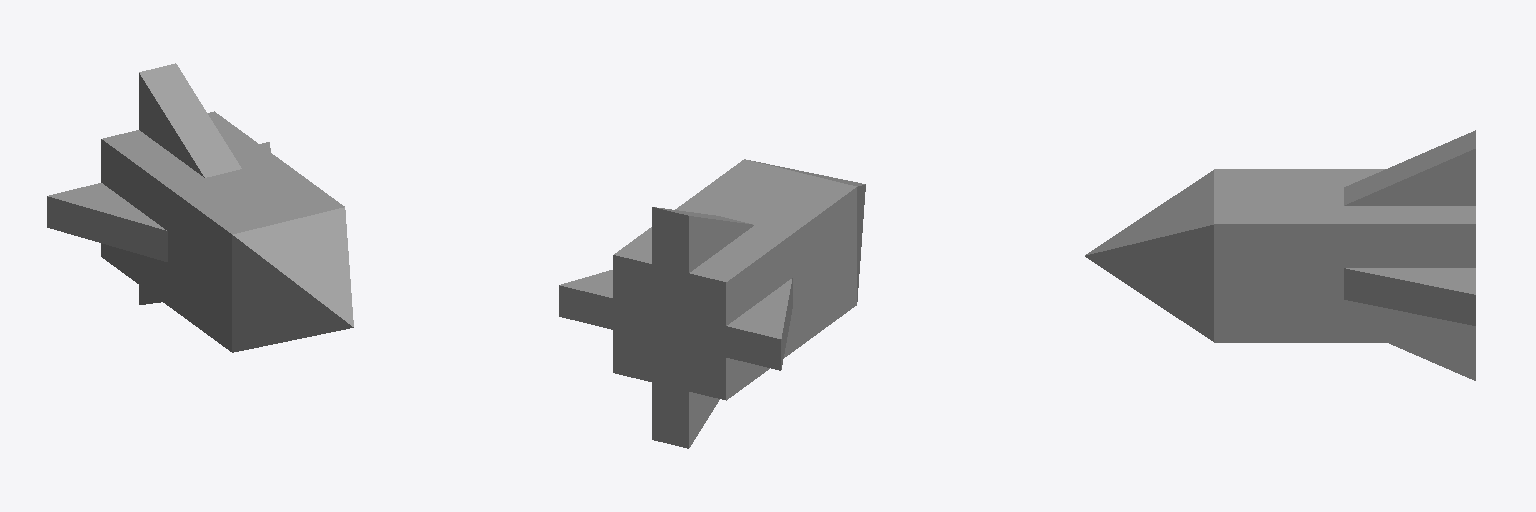
The model's file is sideways_rocket.obj.
3 renders of one model, left to right at view 1: azimuth 30°, elevation 25°; view 2: azimuth 150°, elevation 25°; view 3: azimuth 270°, elevation 25°, orthographic.
Visible parts, largest first — view 1: Cube; view 2: Cube; view 3: Cube.
Part boxes in pixels (left/top/right/bottom): Cube: left=47, top=63, right=353, bottom=352; Cube: left=559, top=159, right=865, bottom=448; Cube: left=1085, top=130, right=1475, bottom=380.
Bounding box in the file's own units: 31.25 × 31.25 × 47.64.